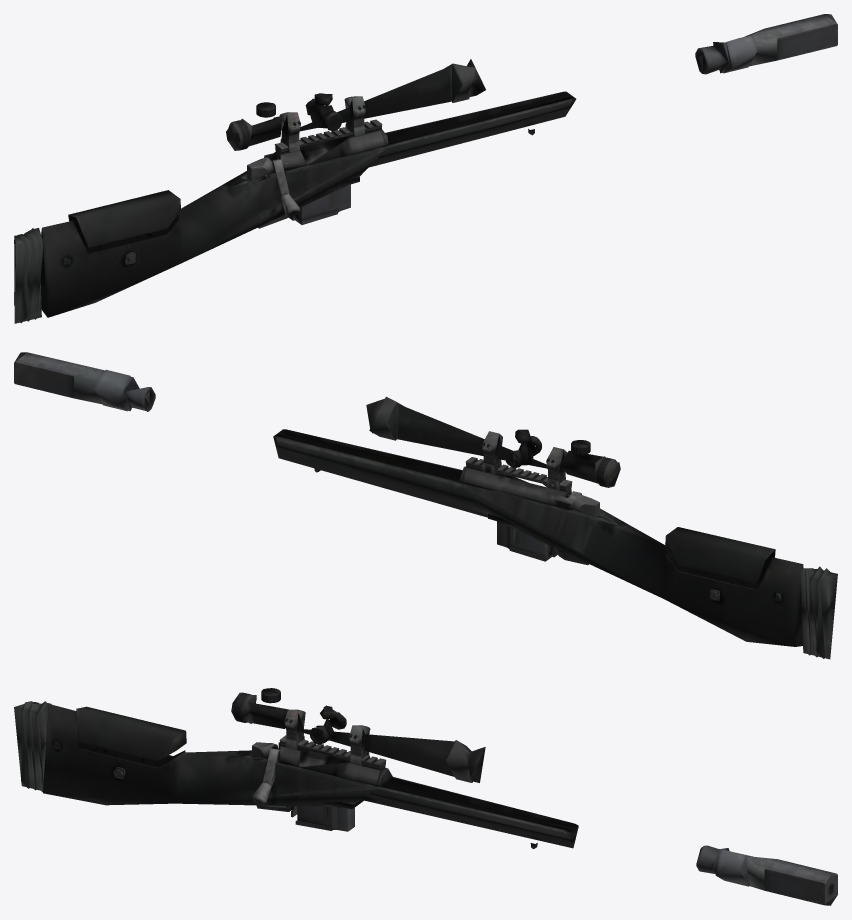
File: sniper_lod1.glb
3 renders of one model, top to bottom at view 1: azimuth 30°, elevation 25°; view 2: azimuth 150°, elevation 25°; view 3: azimuth 330°, elevation 25°, orthographic.
Visible parts, largest first — view 1: base, scope, silencer, cheekrest, mag, bolt; view 2: base, scope, silencer, cheekrest, mag; view 3: base, scope, silencer, cheekrest, mag, bolt.
Part boxes in pixels (x1,y1,x2,y2): base: [14, 54, 702, 323]; scope: [226, 59, 485, 152]; silencer: [695, 14, 837, 74]; cheekrest: [68, 190, 180, 248]; mag: [295, 184, 350, 224]; bolt: [272, 157, 300, 216]; base: [135, 391, 837, 659]; scope: [366, 396, 620, 490]; silencer: [14, 352, 155, 411]; cheekrest: [665, 527, 775, 584]; mag: [497, 521, 553, 561]; base: [14, 701, 707, 857]; scope: [231, 688, 485, 782]; silencer: [696, 845, 837, 905]; cheekrest: [76, 706, 186, 762]; mag: [295, 806, 354, 831]; bolt: [253, 747, 284, 805].
Size of the model in its own units: 1.42 by 0.2621 by 0.0989.
2 materials, 1 textured.
